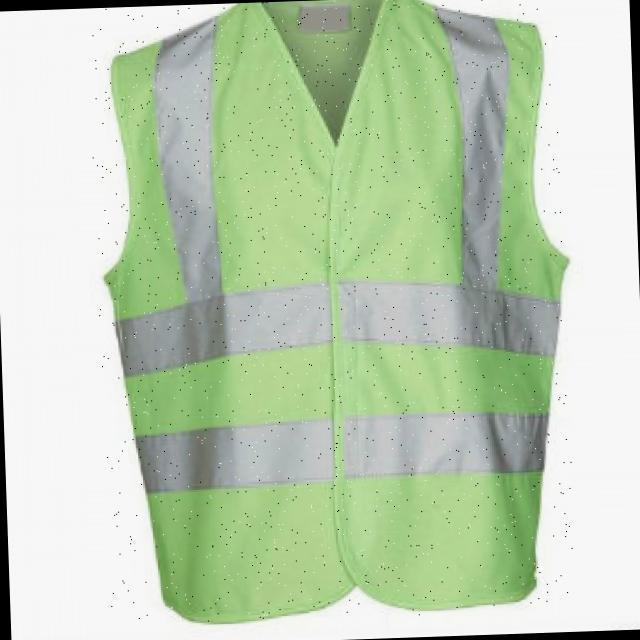vest: (86, 0, 576, 625)
